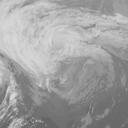cyclone: (26, 28, 115, 98)
